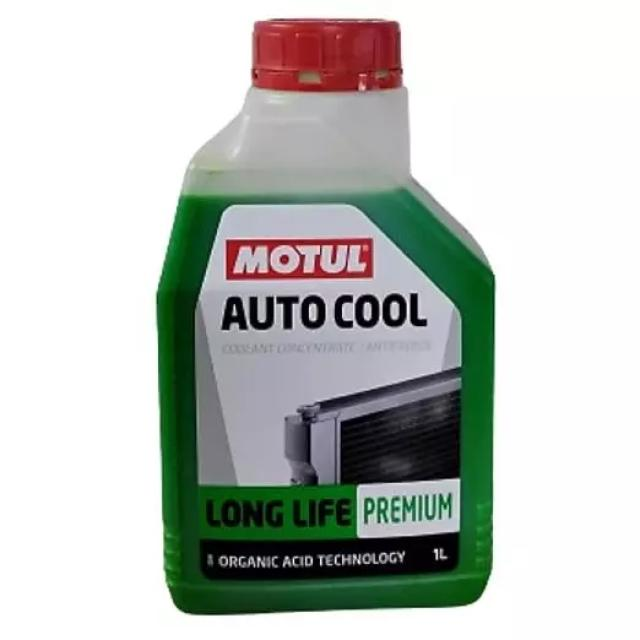coolant: (158, 10, 502, 620)
